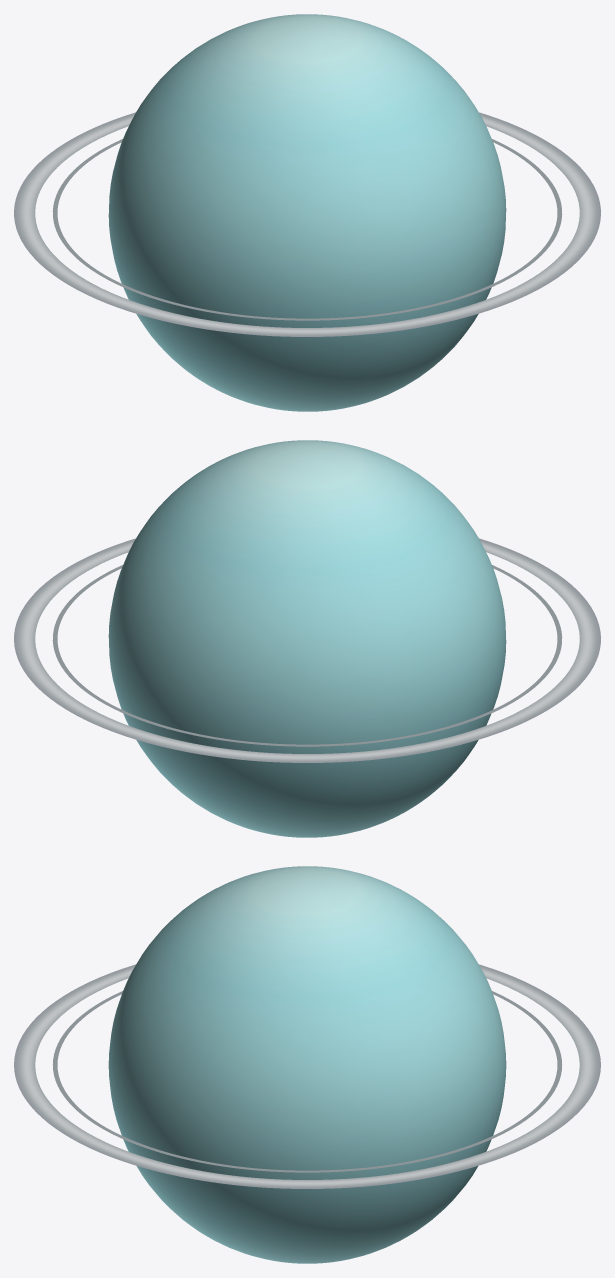
The model's file is planet_uranus.glb.
The picture shows the model from 3 angles, top to bottom: view 1: azimuth 30°, elevation 25°; view 2: azimuth 150°, elevation 25°; view 3: azimuth 270°, elevation 25°; orthographic projection.
Parts seen in each view (by area): view 1: planet_uranus; view 2: planet_uranus; view 3: planet_uranus.
Part boxes in pixels (box(x1,y1,x2,y2)): planet_uranus: box(14, 14, 600, 411); planet_uranus: box(14, 440, 600, 837); planet_uranus: box(14, 866, 600, 1263).
Size of the model in its own units: 1.24 by 0.84 by 1.24.
2 materials, 2 textured.
